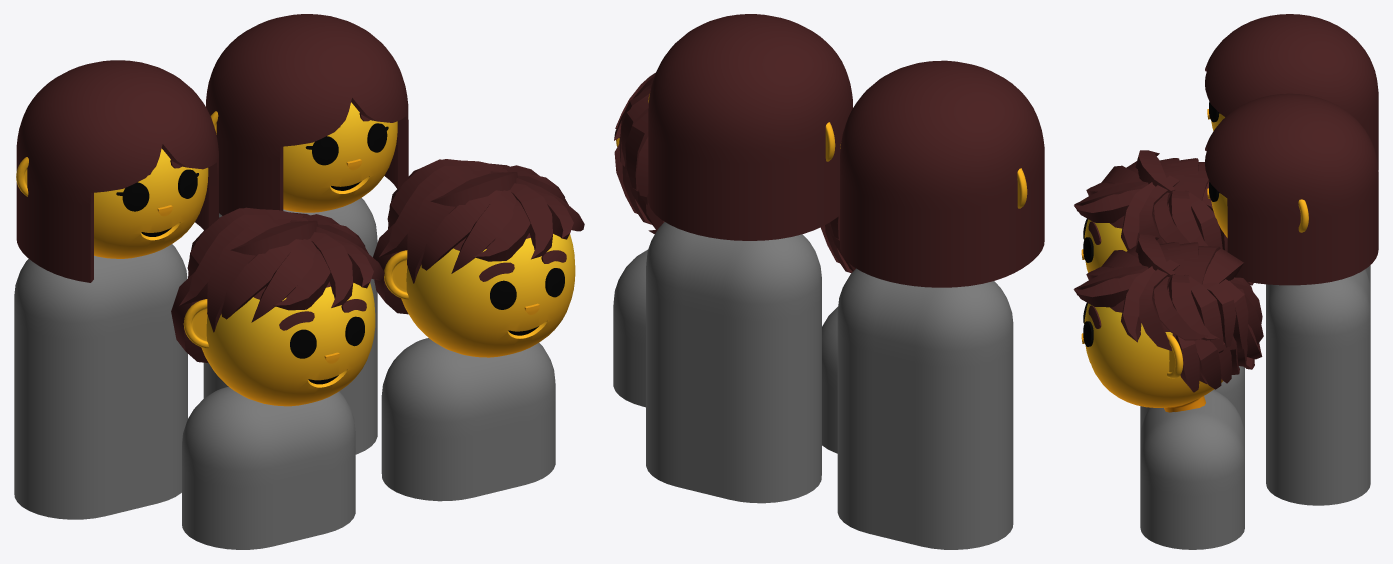
Rendered from family__woman_woman_boy_boy.gltf.
The picture shows the model from 3 angles, left to right: view 1: azimuth 30°, elevation 25°; view 2: azimuth 150°, elevation 25°; view 3: azimuth 270°, elevation 25°; orthographic projection. The views are drawn at different scales.
Visible parts, largest first — view 1: Sphere.317, Roundcube.386, Roundcube.385, Sphere.324, Sphere.323, Cube.5164, Cube.5195, Roundcube.394, Roundcube.393, Roundcube.384, Roundcube.383, Sphere.318 (+8 smaller); view 2: Sphere.317, Sphere.318, Roundcube.386, Roundcube.385, Sphere.324, Cube.5195, Sphere.323, Cube.5164; view 3: Roundcube.385, Sphere.318, Cube.5195, Sphere.324, Roundcube.386, Cube.5164, Roundcube.394, Roundcube.393, Sphere.323, Cylinder.270, Roundcube.384.
Part boxes in pixels (box(x1,y1,x2,y2)): Sphere.317: box(14, 244, 187, 519); Roundcube.386: box(16, 60, 218, 282); Roundcube.385: box(206, 14, 408, 215); Sphere.324: box(381, 338, 555, 501); Sphere.323: box(182, 386, 355, 549); Cube.5164: box(171, 207, 384, 362); Cube.5195: box(373, 159, 584, 314); Roundcube.394: box(401, 233, 575, 357); Roundcube.393: box(201, 281, 375, 406); Roundcube.384: box(283, 102, 397, 212); Roundcube.383: box(94, 148, 208, 258); Sphere.318: box(203, 198, 377, 454); Sphere.317: box(837, 268, 1013, 549); Sphere.318: box(646, 222, 821, 503); Roundcube.386: box(840, 60, 1044, 287); Roundcube.385: box(648, 14, 852, 240); Sphere.324: box(613, 249, 647, 407); Cube.5195: box(614, 72, 664, 234); Sphere.323: box(822, 306, 838, 453); Cube.5164: box(820, 215, 855, 273); Roundcube.385: box(1205, 93, 1378, 285); Sphere.318: box(1266, 269, 1370, 505); Cube.5195: box(1073, 234, 1263, 392); Sphere.324: box(1140, 390, 1244, 549); Roundcube.386: box(1205, 14, 1378, 170); Cube.5164: box(1074, 150, 1253, 285); Roundcube.394: box(1084, 287, 1222, 412); Roundcube.393: box(1084, 203, 1169, 272); Sphere.323: box(1140, 366, 1244, 436); Cylinder.270: box(1167, 335, 1183, 378); Roundcube.384: box(1211, 193, 1227, 237).
Size of the model in its own units: 2.51 by 2.15 by 1.61.
1 material, 1 textured.
